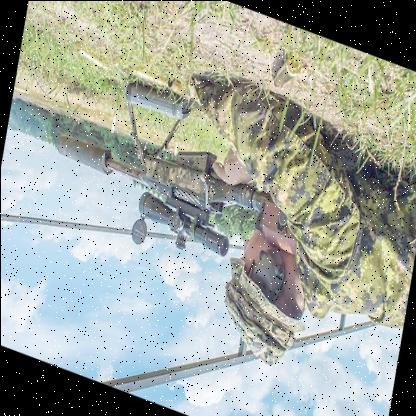rifle: (72, 122, 268, 272)
